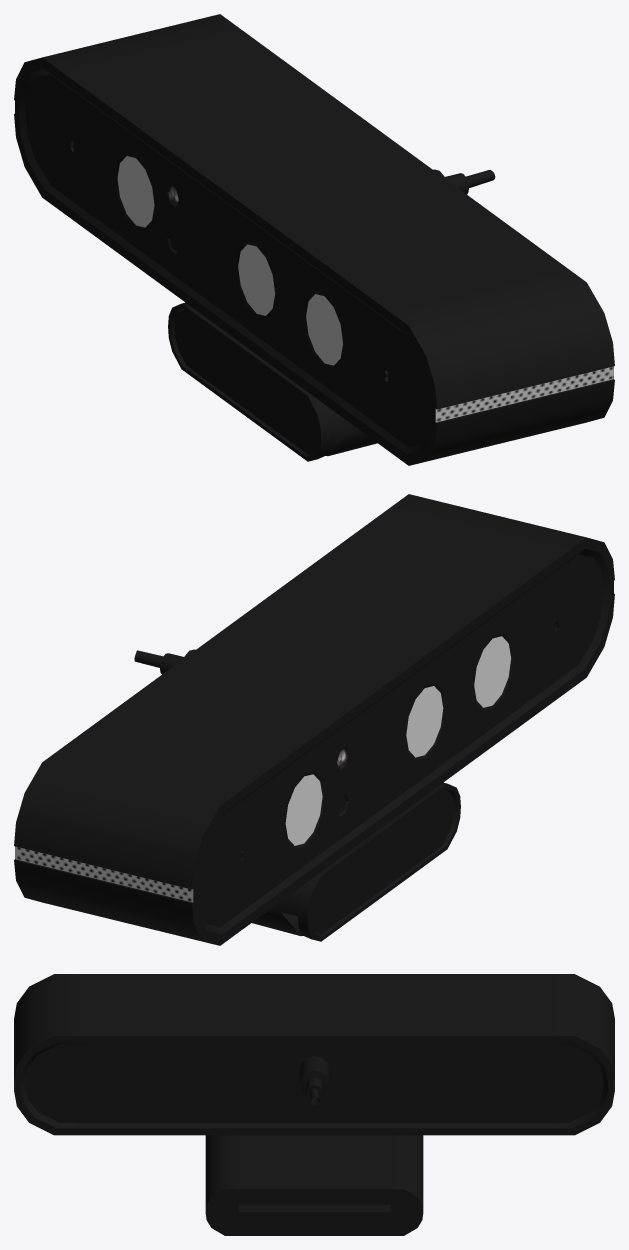
File: CameraOrbbeck.fbx
The picture shows the model from 3 angles, top to bottom: view 1: azimuth 30°, elevation 25°; view 2: azimuth 150°, elevation 25°; view 3: azimuth 270°, elevation 25°; orthographic projection. The views are drawn at different scales.
Parts seen in each view (by area): view 1: Orbbeck; view 2: Orbbeck; view 3: Orbbeck.
Boxes of the visible parts, left/top/right/bottom form: Orbbeck: left=14, top=14, right=614, bottom=465; Orbbeck: left=14, top=494, right=614, bottom=945; Orbbeck: left=14, top=974, right=614, bottom=1235.
Size of what is drawn, in the model's own units: 7.78 by 5.93 by 19.89.
2 materials, 1 textured.
